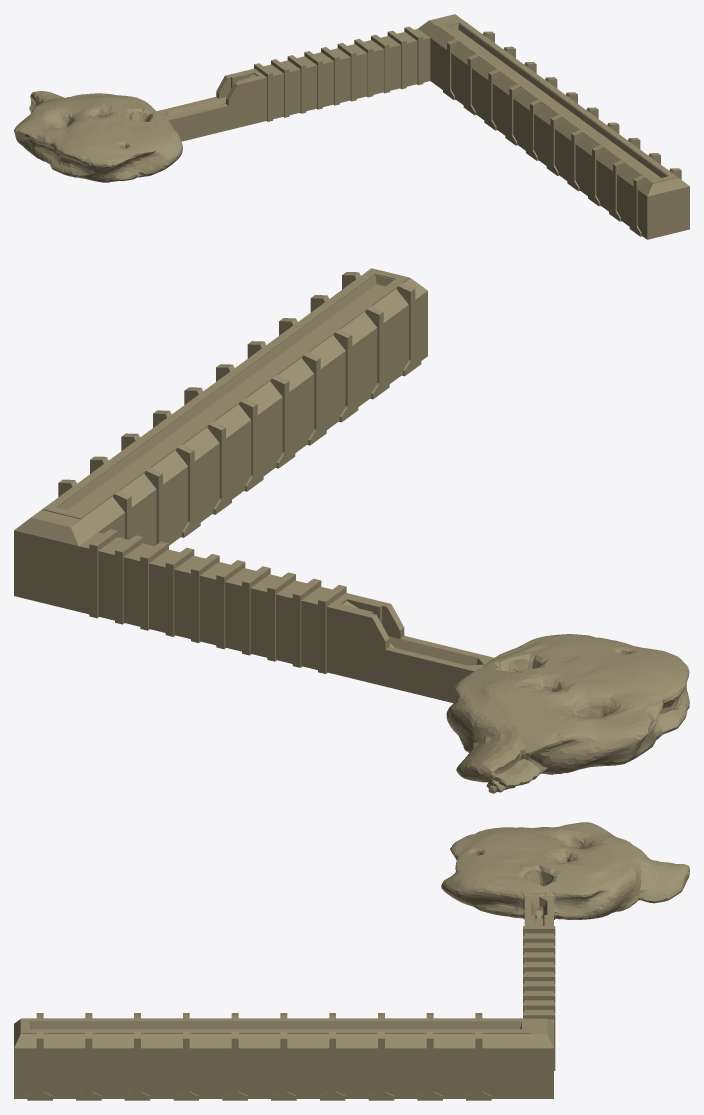
Rendered from Acri Tyrda Passages2.dae.
3 renders of one model, top to bottom at view 1: azimuth 30°, elevation 25°; view 2: azimuth 150°, elevation 25°; view 3: azimuth 270°, elevation 25°, orthographic. The views are drawn at different scales.
Parts seen in each view (by area): view 1: DeepAcri2; view 2: DeepAcri2; view 3: DeepAcri2.
Boxes of the visible parts, <box> form: DeepAcri2: <box>14,14,689,239</box>; DeepAcri2: <box>14,268,689,793</box>; DeepAcri2: <box>14,822,689,1100</box>.
Size of the model in its own units: 361 by 416 by 45.04.
